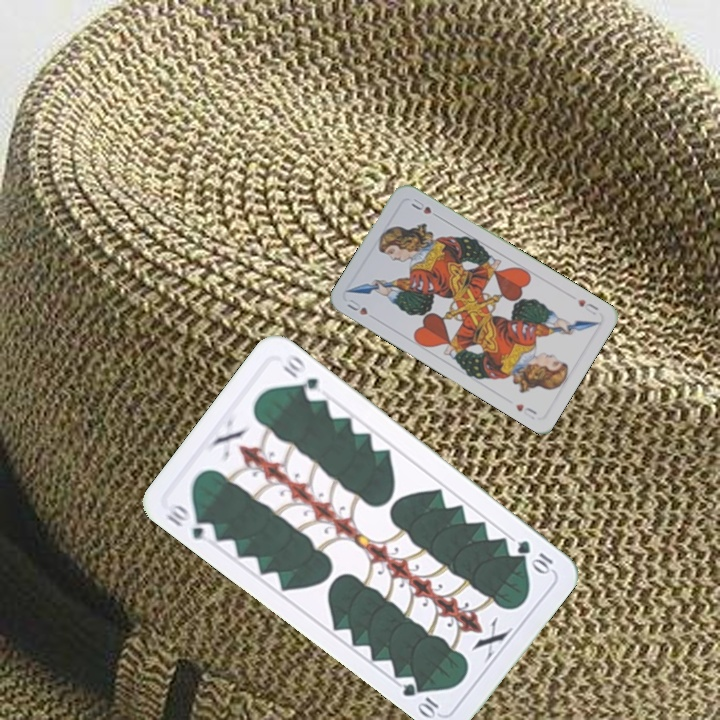G10: (162, 500, 219, 543), (513, 536, 556, 576)
HU: (573, 295, 601, 318), (343, 295, 370, 318)
